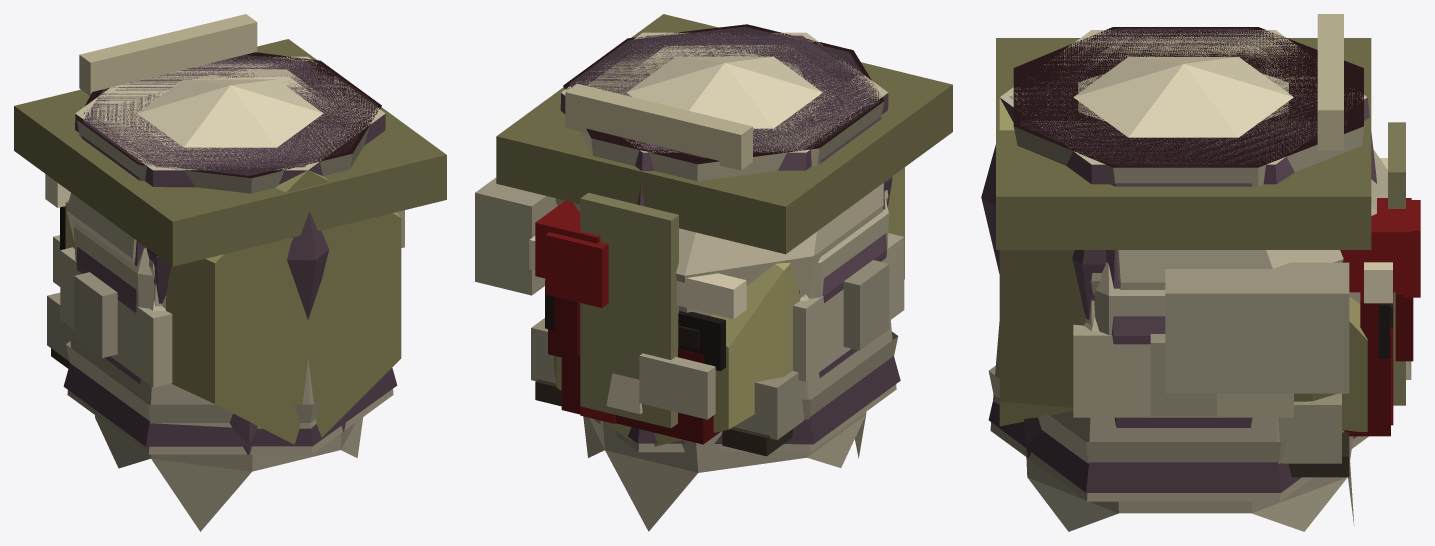
Rendered from skeleton.glb.
3 views of the same model, side by side, from view 1: azimuth 30°, elevation 25°; view 2: azimuth 150°, elevation 25°; view 3: azimuth 270°, elevation 25° (orthographic). The views are drawn at different scales.
Parts seen in each view (by area): view 1: footR, hips, shinR, headJaw, uArmR, torso, uArmDeltR, handR, head, neck, fArmR, thighR (+1 smaller); view 2: hips, torso, handR, headJaw, head, shinR, footR, uArmDeltR, fArmR, neck, uArmR, torsoBelly (+2 smaller); view 3: hips, handR, headJaw, torso, footR, uArmDeltR, shinR, uArmR, head, neck, fArmR, torsoBelly (+1 smaller).
Boxes of the visible parts, x1,y1,x2,y2 form: footR: [65, 170, 401, 444]; hips: [14, 39, 446, 454]; shinR: [63, 59, 397, 446]; headJaw: [77, 14, 381, 193]; uArmR: [66, 56, 385, 422]; torso: [53, 74, 362, 531]; uArmDeltR: [137, 79, 323, 147]; handR: [47, 68, 404, 387]; head: [45, 174, 166, 357]; neck: [67, 329, 393, 454]; fArmR: [92, 62, 366, 279]; thighR: [75, 114, 385, 285]; hips: [496, 14, 952, 377]; torso: [545, 51, 883, 531]; handR: [475, 44, 904, 456]; headJaw: [563, 24, 884, 423]; head: [529, 196, 889, 414]; shinR: [582, 35, 900, 444]; footR: [554, 167, 904, 446]; uArmDeltR: [626, 56, 822, 300]; fArmR: [561, 38, 888, 444]; neck: [593, 320, 896, 452]; uArmR: [561, 32, 898, 418]; torsoBelly: [535, 200, 600, 278]; hips: [996, 28, 1371, 458]; handR: [1054, 46, 1349, 477]; headJaw: [1013, 14, 1393, 425]; torso: [1026, 73, 1420, 531]; footR: [999, 98, 1367, 431]; uArmDeltR: [1073, 57, 1293, 330]; shinR: [981, 35, 1356, 492]; uArmR: [988, 30, 1367, 463]; head: [1084, 158, 1411, 416]; neck: [990, 322, 1368, 501]; fArmR: [1020, 36, 1390, 436]; torsoBelly: [1340, 198, 1411, 292].
Size of the model in its own units: 1.15 by 1.4 by 1.19.
